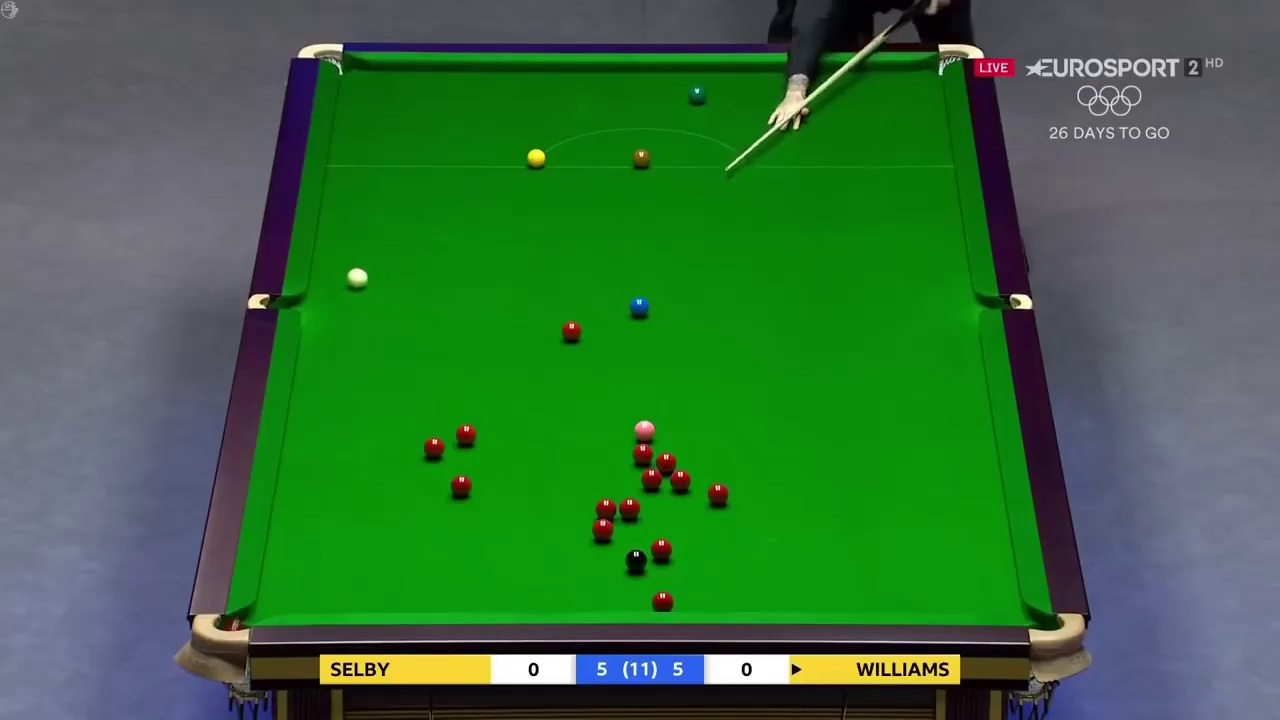black: (628, 551, 645, 570)
blue: (629, 298, 647, 318)
brown: (631, 146, 651, 167)
green: (688, 84, 707, 106)
pink: (635, 421, 656, 442)
red: (591, 517, 613, 543), (669, 471, 693, 493), (559, 320, 582, 342), (649, 540, 672, 562), (449, 476, 471, 498), (454, 425, 477, 446), (422, 439, 445, 460), (706, 485, 730, 505), (619, 499, 640, 521), (640, 467, 661, 488), (650, 592, 674, 610), (634, 444, 652, 465), (596, 499, 616, 516), (657, 455, 675, 473)
white: (346, 268, 369, 288)
yellow: (524, 148, 545, 166)
